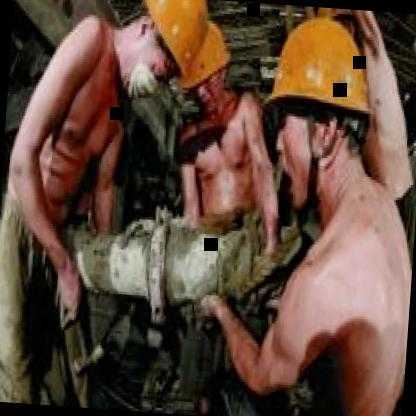helmet: (254, 6, 385, 222), (125, 0, 206, 91), (176, 19, 236, 112)
